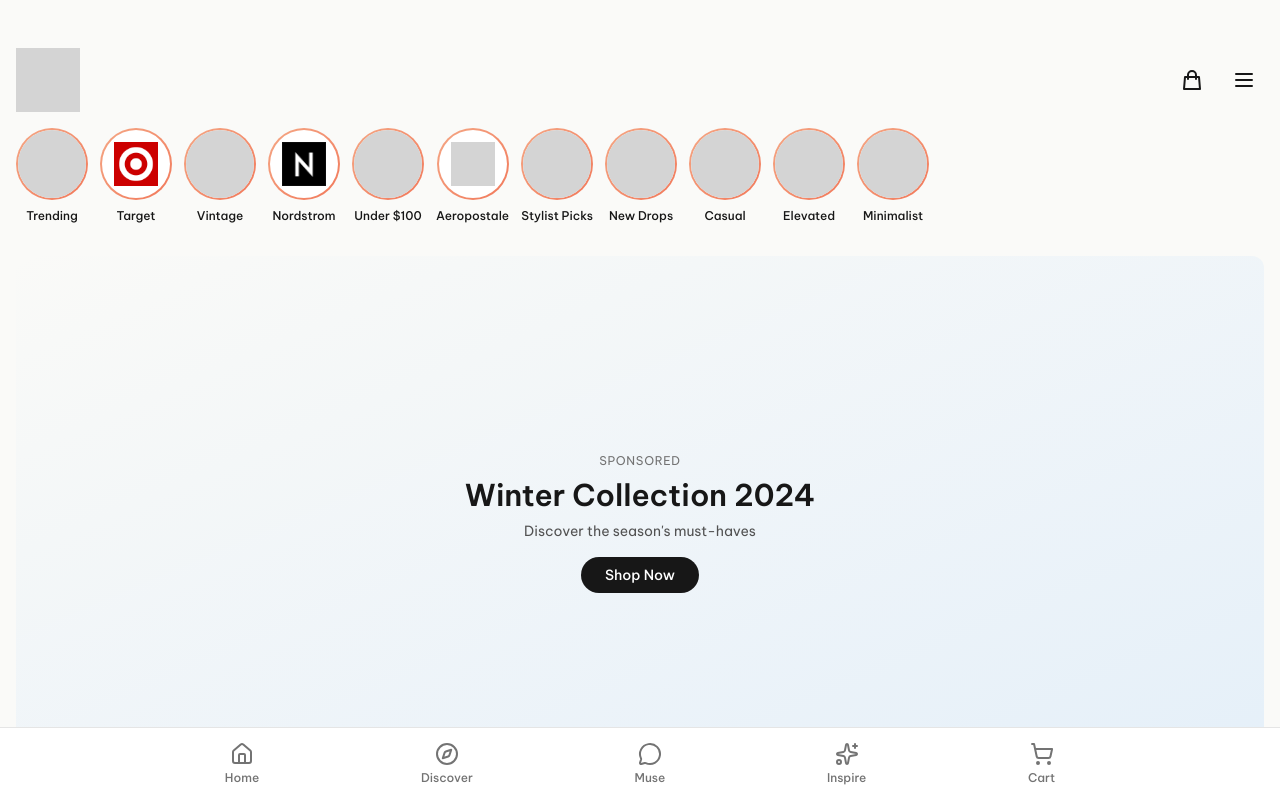
Test: HomePage › toggles menu dropdown
Click the button named "Menu": (1244, 80) left=1224, top=60, right=1264, bottom=100
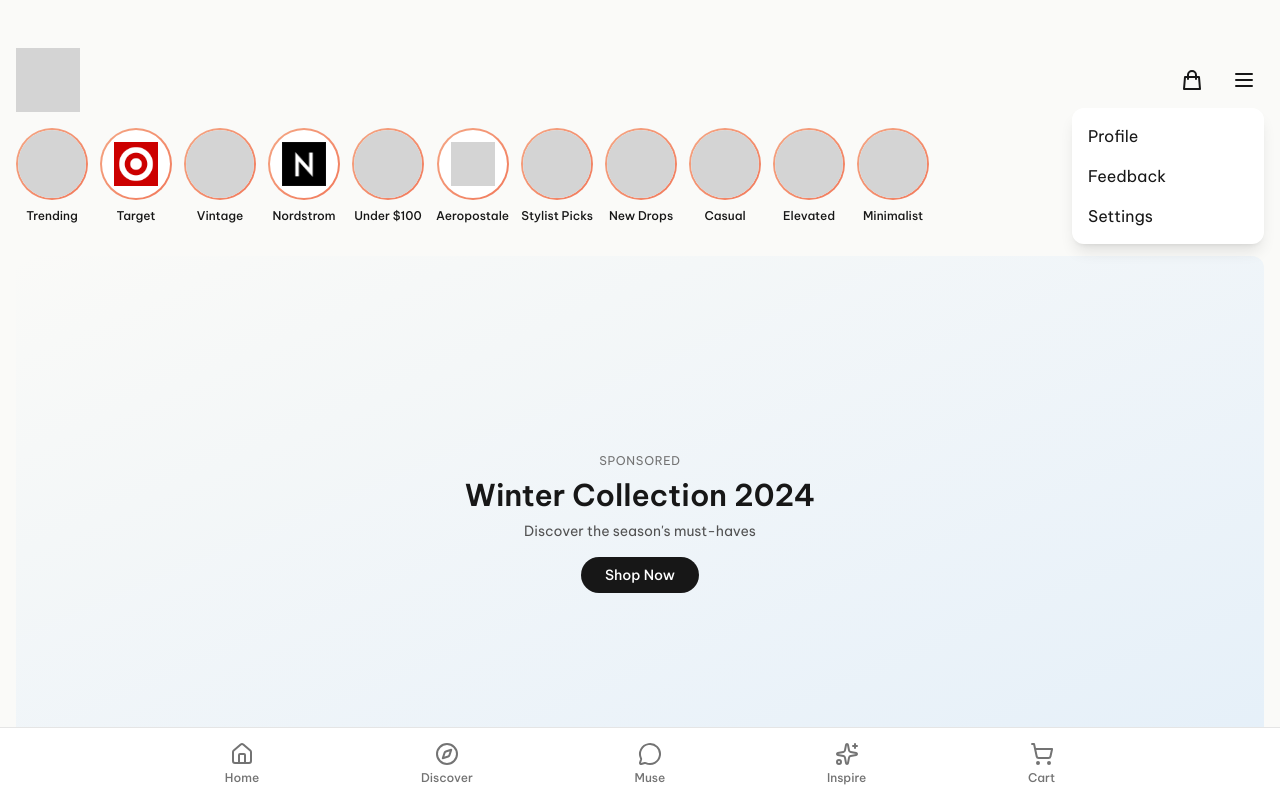
Result: the link "Profile" is shown at left=1088, top=126, right=1138, bottom=146
Result: the link "Settings" is shown at left=1088, top=206, right=1153, bottom=226
